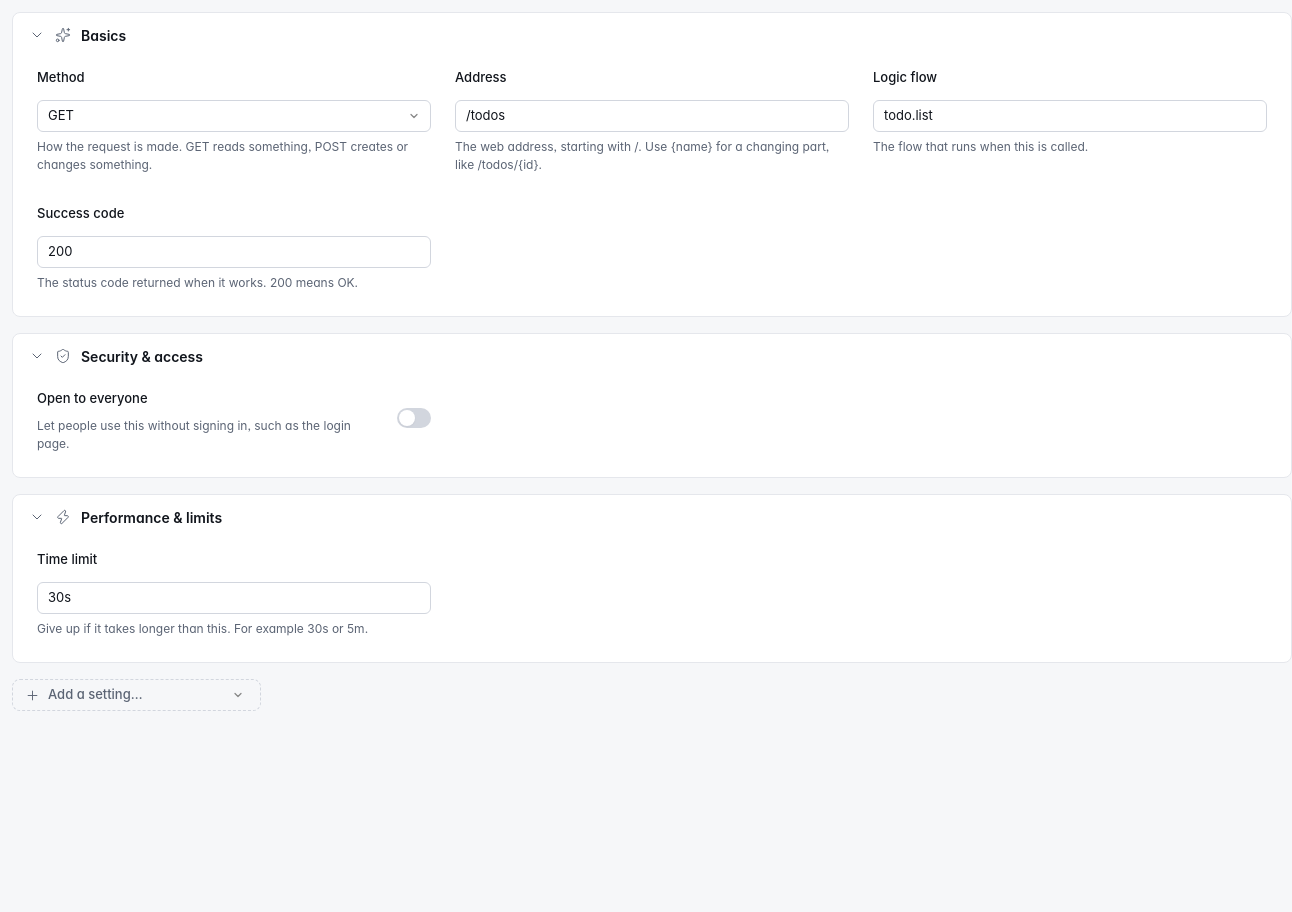
scalar widgets › int: accepts digits, reports anything else and sends nothing
This screenshot has width=1292, height=912.
Replace the text in the field labelled "Success code" with "201": (234, 252) [37,236,431,268]
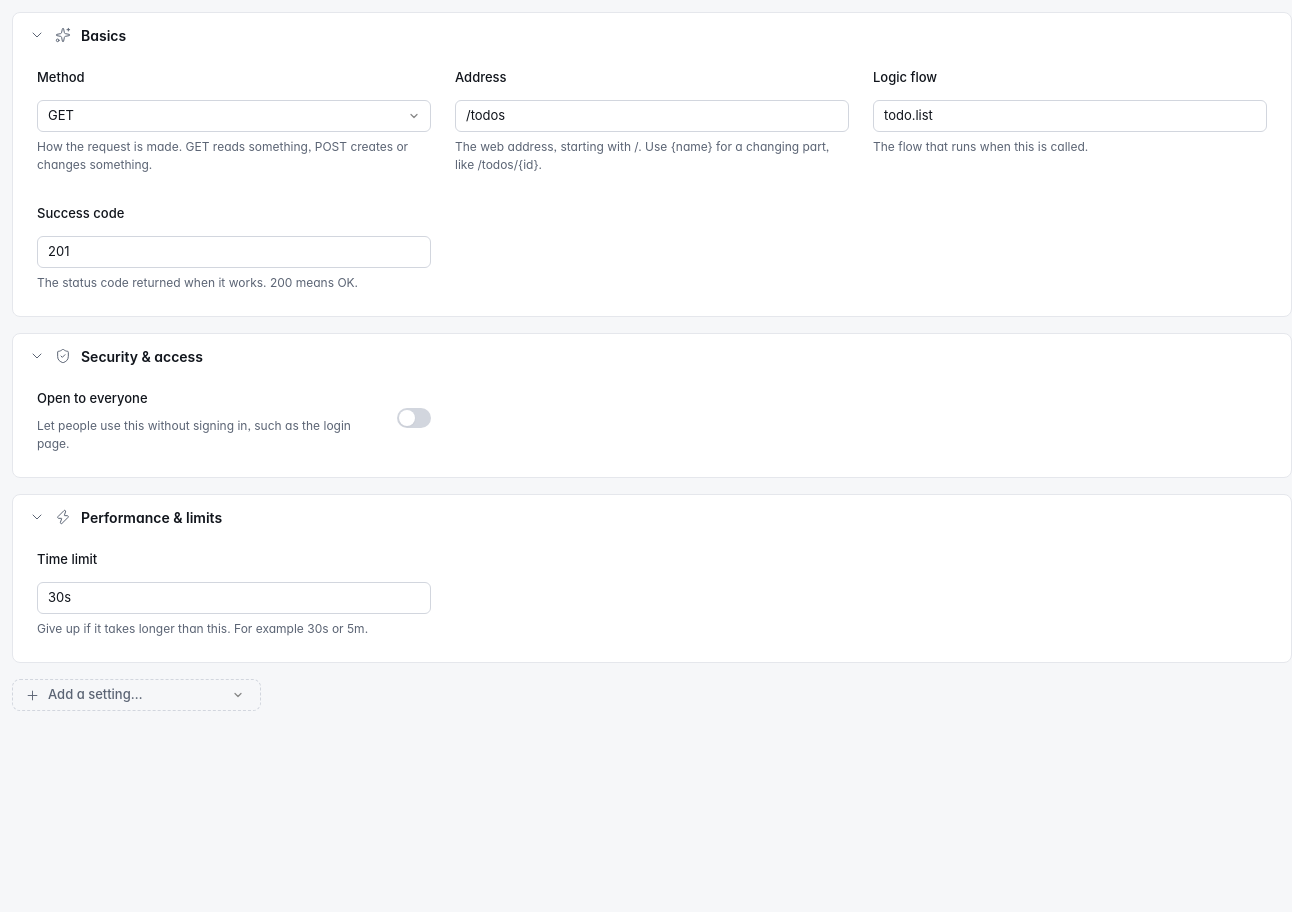
Replace the text in the field labelled "Success code" with "20x": (234, 252) [37,236,431,268]
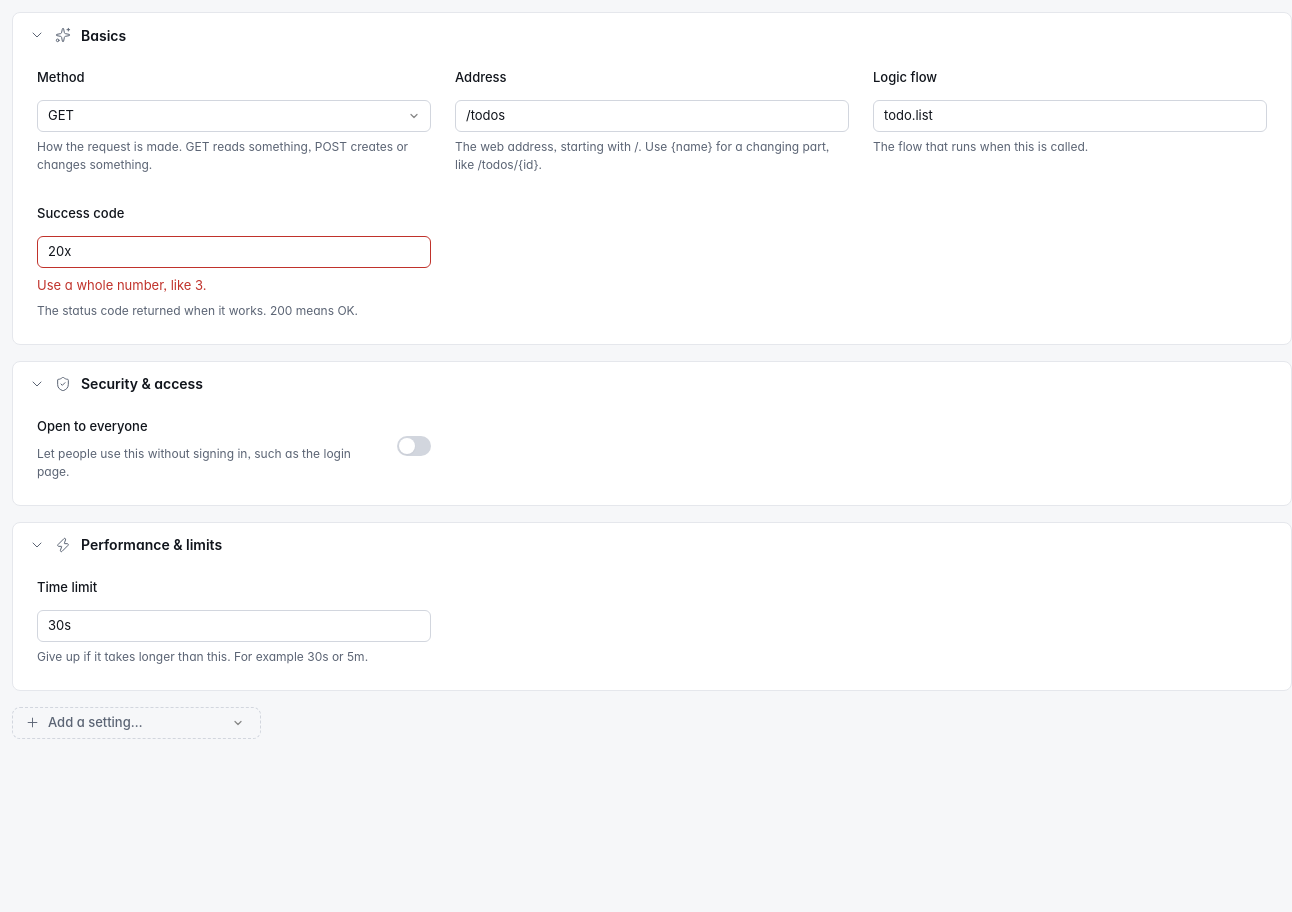
Now the message shows "whole number", box [37,277,206,293]
